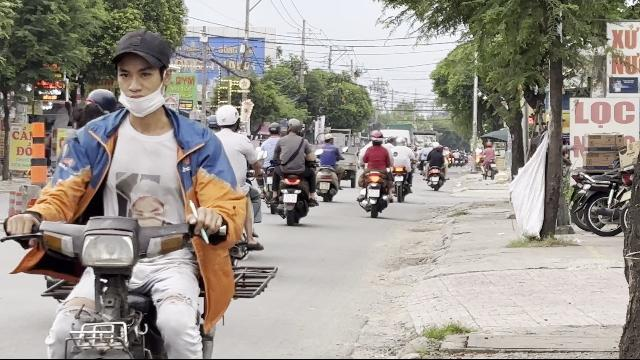helmet: (212, 104, 240, 130)
motorcyclist: (1, 31, 266, 357)
nohelmet: (110, 30, 174, 118)
